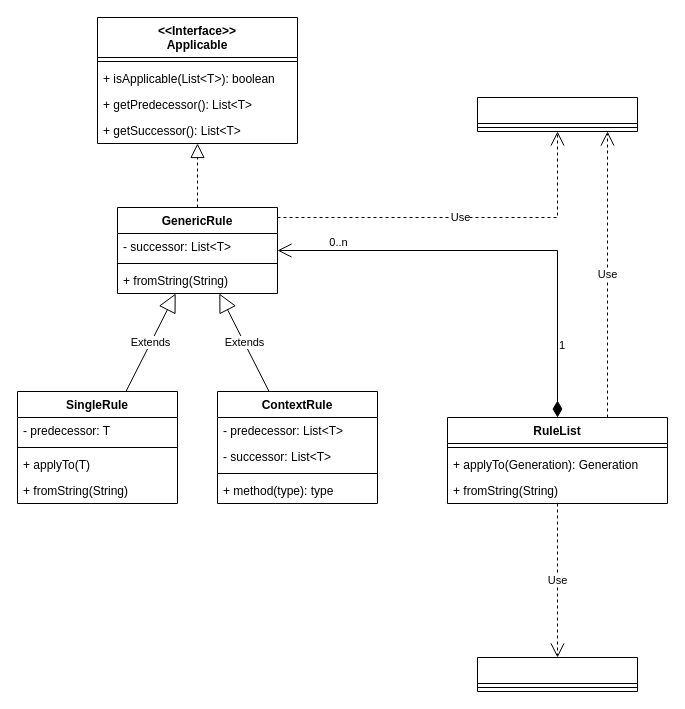
Some shapes in this 685 by 709 pixel diagram are drawn without their labels. Here are the shapes that lost their labels. From the top down, the centre of each, then its label:
At (557,114): "AlphabetParser".
At (557,674): "Generation".
